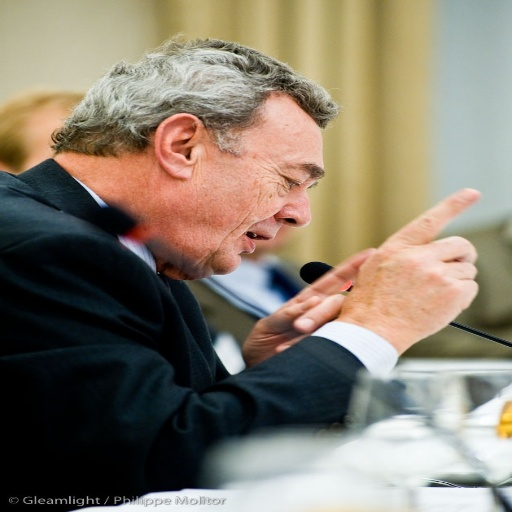hand: (336, 185, 479, 355), (245, 263, 374, 369)
